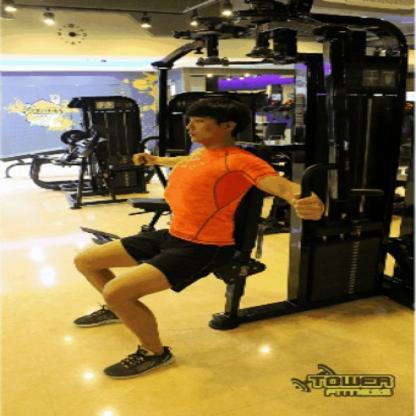chest fly machine: (0, 1, 416, 390)
